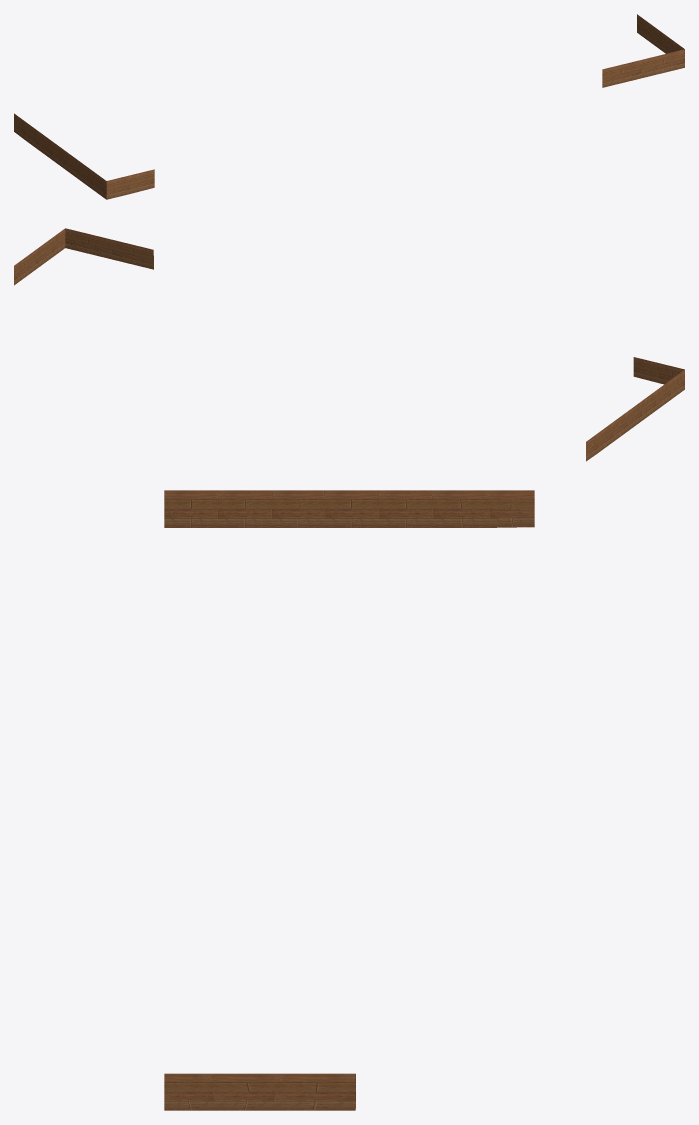
3 views of the same model, one above another, from view 1: azimuth 30°, elevation 25°; view 2: azimuth 150°, elevation 25°; view 3: azimuth 270°, elevation 25° (orthographic). The views are drawn at different scales.
Visible parts, largest first — view 1: Joint_0_Object_0; view 2: Joint_0_Object_0; view 3: Joint_0_Object_0.
Part boxes in pixels (x1,y1,x2,y2): Joint_0_Object_0: [14, 14, 684, 199]; Joint_0_Object_0: [14, 228, 684, 461]; Joint_0_Object_0: [164, 490, 534, 1110].
Size of the model in its own units: 10000 by 460 by 2772.
